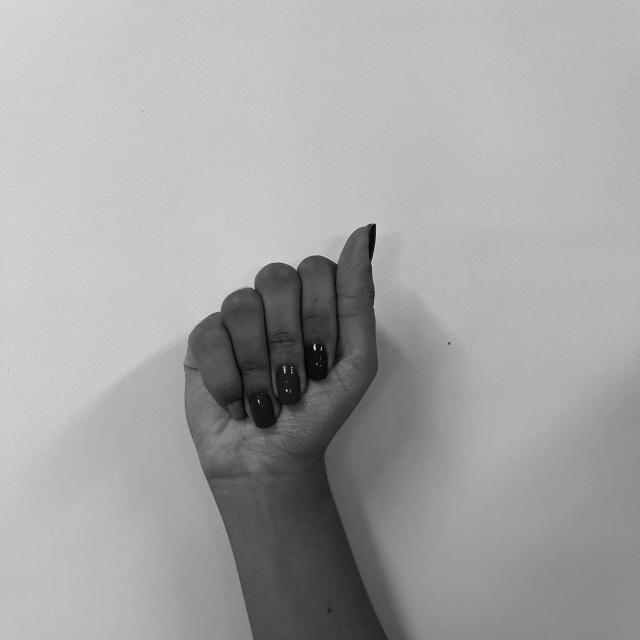Letra A: (176, 215, 390, 486)
